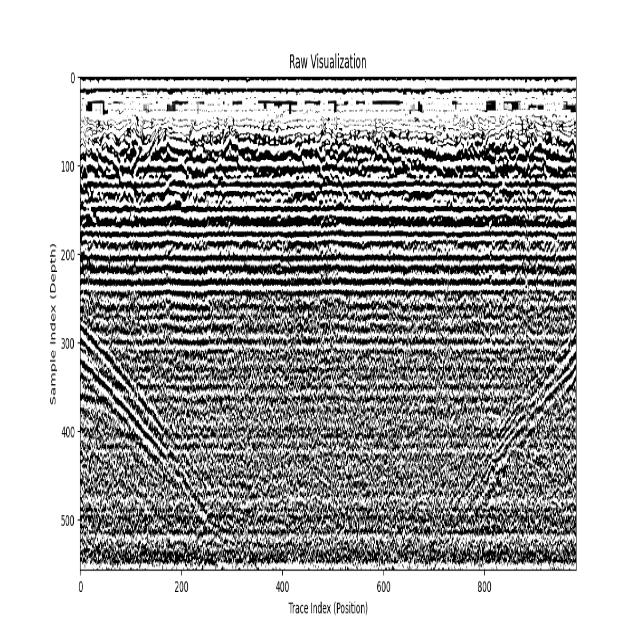anomaly: (82, 313, 242, 566), (442, 312, 575, 570)
